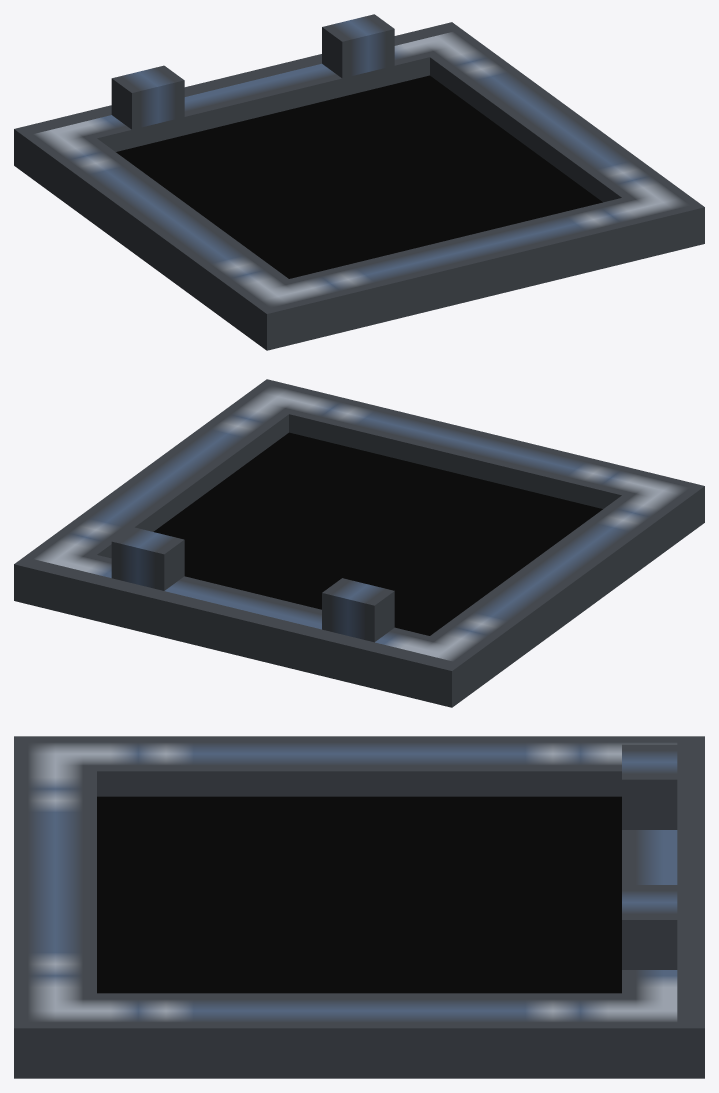
The model's file is trapdoor_frame.fbx.
The picture shows the model from 3 angles, top to bottom: view 1: azimuth 30°, elevation 25°; view 2: azimuth 150°, elevation 25°; view 3: azimuth 270°, elevation 25°; orthographic projection. The views are drawn at different scales.
Parts seen in each view (by area): view 1: trapdoor_frame; view 2: trapdoor_frame; view 3: trapdoor_frame.
Boxes of the visible parts, x1,y1,x2,y2 form: trapdoor_frame: (14, 14, 704, 350); trapdoor_frame: (14, 379, 704, 707); trapdoor_frame: (14, 736, 704, 1078).
Size of the model in its own units: 25 by 4 by 25.
Materials: 1 (1 with a texture image).
